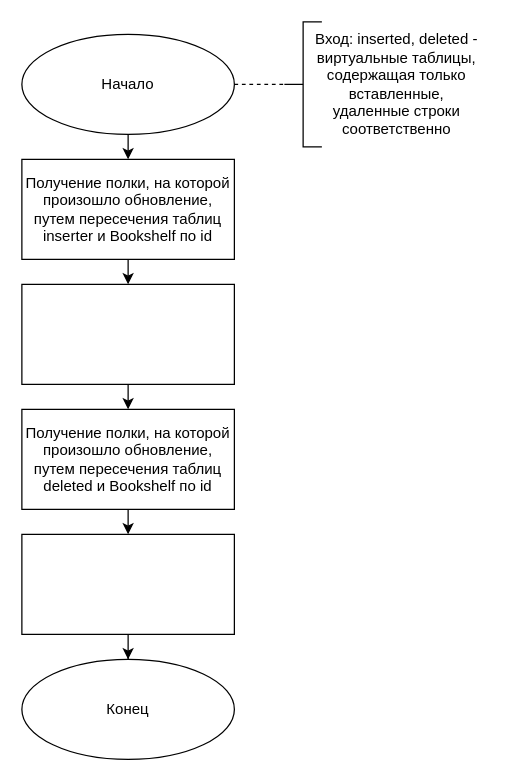
Image size: 506x781. Some labels were removed from this diagram. Each missing label, with the centre of its shape:
"Декремент значения Number для данной полки" goes at [127,583].
"Инкремент значения Number для данной полки" goes at [127,333].
